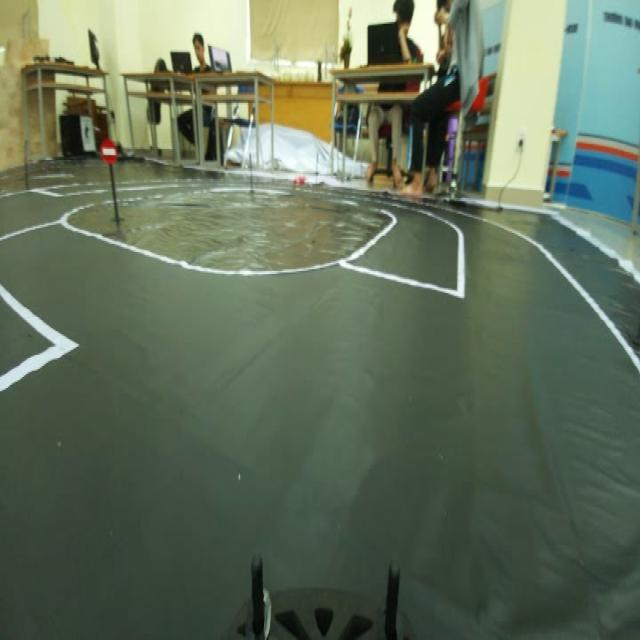no_entry: (96, 139, 120, 167)
